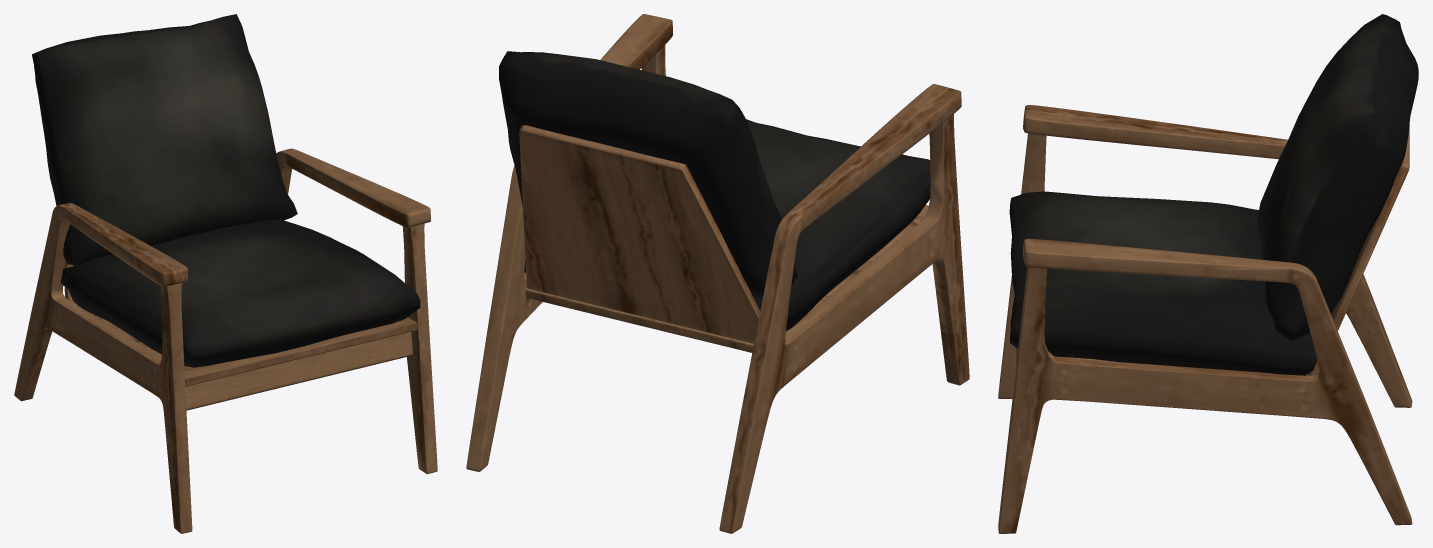
File: modern_arm_chair_01.glb
3 renders of one model, left to right at view 1: azimuth 30°, elevation 25°; view 2: azimuth 150°, elevation 25°; view 3: azimuth 270°, elevation 25°, orthographic. The views are drawn at different scales.
Visible parts, largest first — view 1: modern_arm_chair_01; view 2: modern_arm_chair_01; view 3: modern_arm_chair_01.
Part boxes in pixels (x1,y1,x2,y2): modern_arm_chair_01: (14,14,437,533); modern_arm_chair_01: (466,14,969,533); modern_arm_chair_01: (998,14,1418,533).
Size of the model in its own units: 0.8203 by 1.02 by 0.9865.
2 materials, 2 textured.
